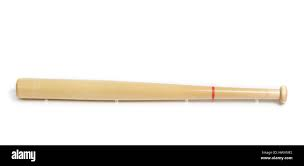baseball bat: (14, 77, 287, 105)
